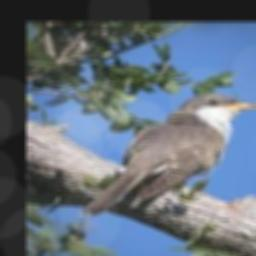Cuckoo: (80, 94, 256, 216)
